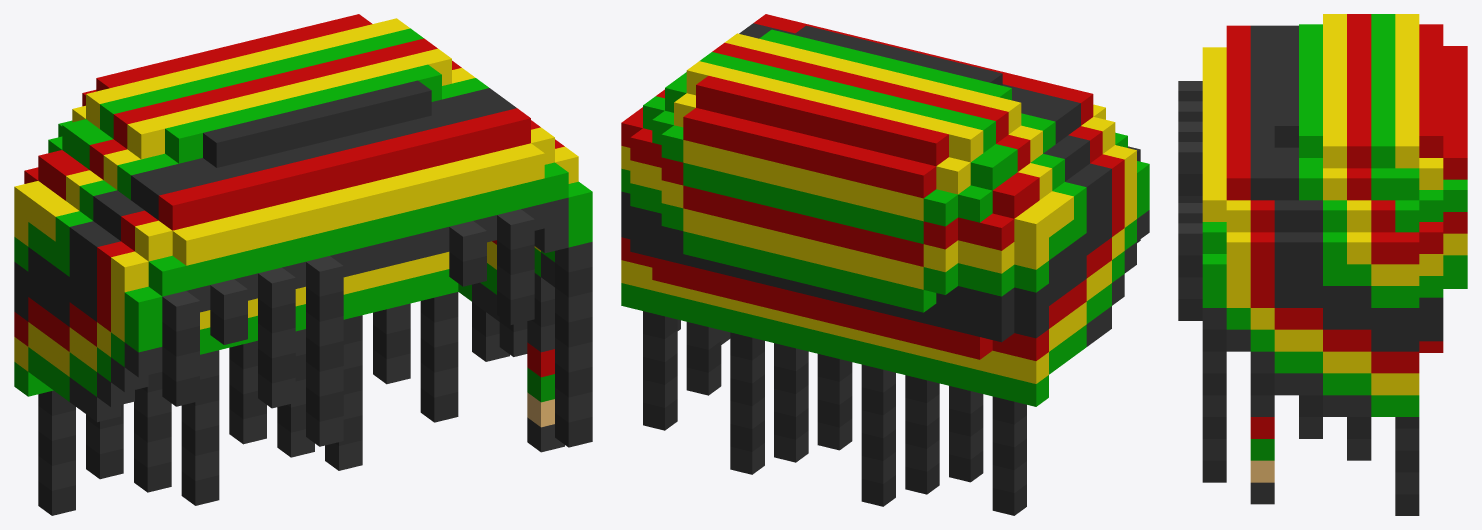
The model's file is accessories_head_rasta.glb.
3 views of the same model, side by side, from view 1: azimuth 30°, elevation 25°; view 2: azimuth 150°, elevation 25°; view 3: azimuth 270°, elevation 25° (orthographic). The views are drawn at different scales.
Parts seen in each view (by area): view 1: model_0; view 2: model_0; view 3: model_0.
Part boxes in pixels (x1=…): model_0: x1=14, y1=14, x2=592, y2=515; model_0: x1=621, y1=14, x2=1149, y2=515; model_0: x1=1178, y1=14, x2=1467, y2=515.
Size of the model in its own units: 19 by 17 by 12.
